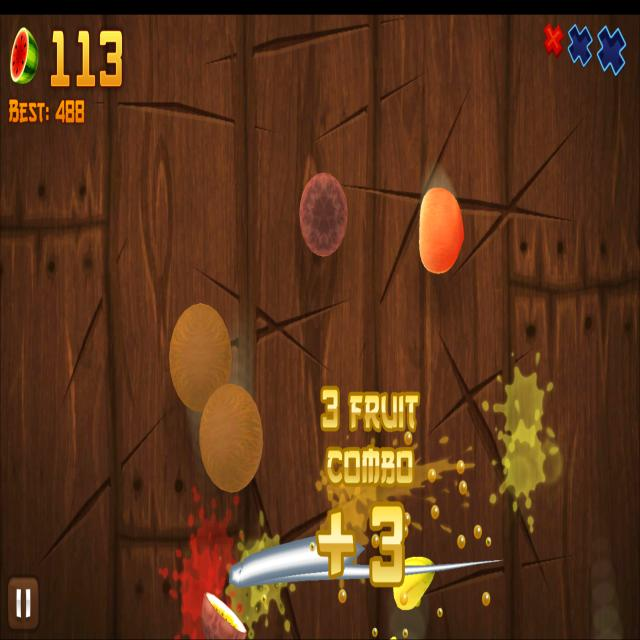fruit: (198, 382, 264, 495), (168, 302, 233, 412), (298, 172, 349, 258), (418, 186, 464, 277), (394, 554, 436, 612)
